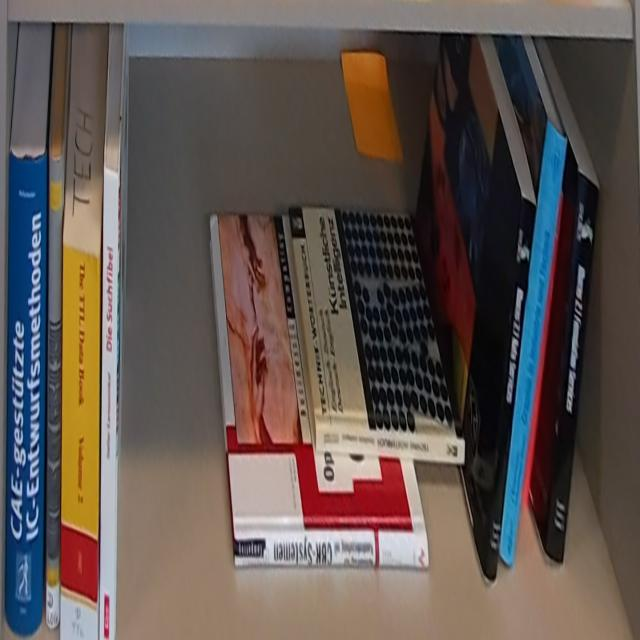Book Spine: (499, 119, 566, 565), (4, 147, 49, 637), (545, 175, 600, 564), (485, 190, 537, 588), (60, 239, 99, 640), (46, 149, 64, 633), (233, 531, 429, 575), (100, 166, 118, 640), (315, 428, 466, 468)
